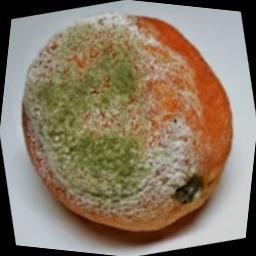Orange Rotten: (0, 0, 256, 250)
